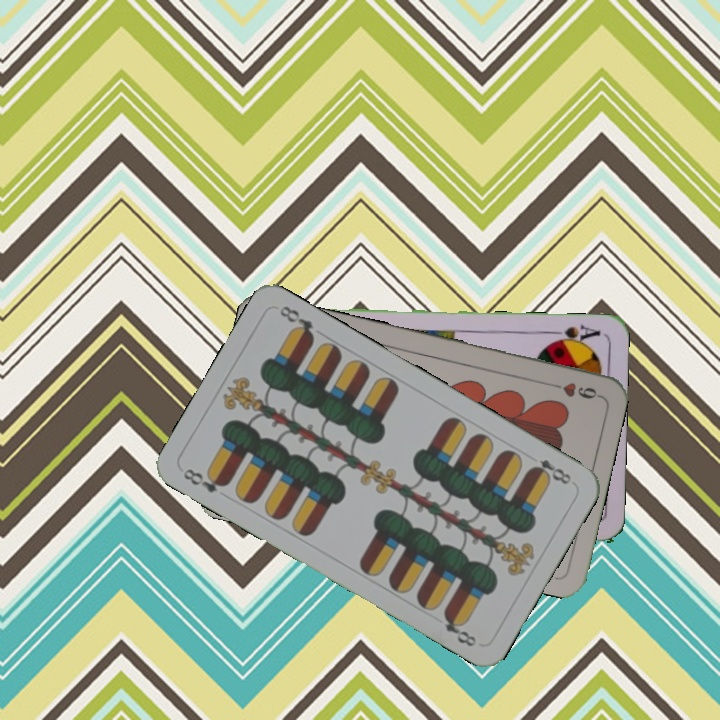E8: (179, 464, 232, 496), (526, 455, 577, 487)
H9: (544, 378, 602, 402)
SA: (544, 320, 603, 348)
